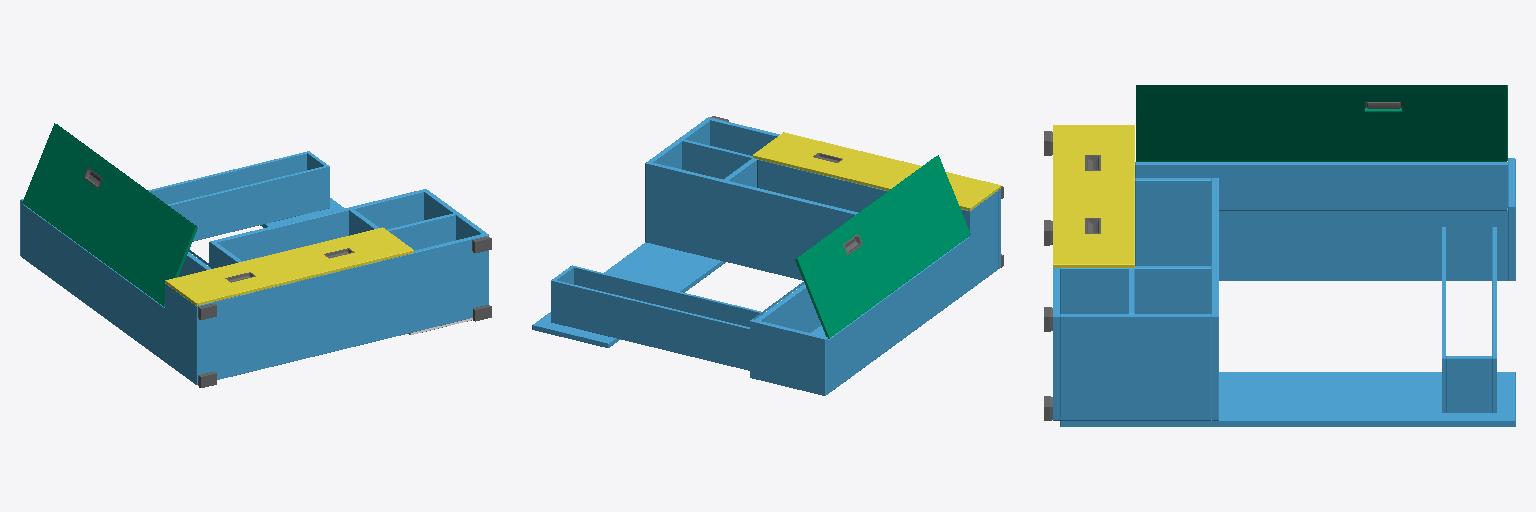
URDF robot description (577):
<robot name="577">


	<link name="0:virtual">
		<visual>
			<origin xyz="0.0 0.0 0.0" rpy="0 0 0"/>
			<geometry>
				<cylinder length="0" radius="0"/>
			</geometry>
		</visual>
	</link>


	<link name="1:static">
		<visual>
			<origin xyz="-0.0 -0.0 -0.0" rpy="0 0 0"/>
			<geometry>
				<mesh filename="../raw_data/577/part_meshes/1.dae" />
			</geometry>
		</visual>
	</link>


	<link name="2:cabinet door 1">
		<visual>
			<origin xyz="0.7549759787793395 -0.9019440038204193 -0.08256950185856853" rpy="0 0 0"/>
			<geometry>
				<mesh filename="../raw_data/577/part_meshes/2.dae" />
			</geometry>
		</visual>
	</link>


	<link name="3:drawer 1">
		<visual>
			<origin xyz="0.19366049766540527 -0.16733034793287516 -0.025034748017787933" rpy="0 0 0"/>
			<geometry>
				<mesh filename="../raw_data/577/part_meshes/3.dae" />
			</geometry>
		</visual>
	</link>


	<joint name="0:virtual::1:static" type="fixed">
		<parent link="0:virtual"/>
		<child link="1:static"/>
		<origin xyz="0.0 0.0 0.0" rpy="0 0 0"/>
	</joint>


	<joint name="0:virtual::2:cabinet door 1_rotation" type="revolute">
		<parent link="0:virtual"/>
		<child link="2:cabinet door 1"/>
		<origin xyz="-0.7549759787793395 0.9019440038204193 0.08256950185856853" rpy="0 0 0"/>
		<limit lower="-2.0263272615654166" upper="-0.23561944901923448" effort="10" velocity="3"/>
		<axis xyz="0.0 1.0 0.0"/>
	</joint>


	<joint name="0:virtual::3:drawer 1_translation" type="prismatic">
		<parent link="0:virtual"/>
		<child link="3:drawer 1"/>
		<origin xyz="-0.19366049766540527 0.16733034793287516 0.025034748017787933" rpy="0 0 0"/>
		<limit lower="-0.0404849998354912" upper="0.582515000164509" effort="10" velocity="3"/>
		<axis xyz="0.0 0.0 1.0"/>
	</joint>


</robot>

--- Render facts (derived) ---
Views: 3 orthographic renders of the robot side by side, from view 1: azimuth 30°, elevation 25°; view 2: azimuth 150°, elevation 25°; view 3: azimuth 270°, elevation 25°.
Robot: 577 — 4 links, 3 joints (1 revolute, 1 prismatic, 1 fixed); root link 0:virtual; default pose: joints at zero except 1 at the middle of their limits (0:virtual::2:cabinet door 1_rotation = -1.13).
Visible links, largest first — view 1: 1:static, 2:cabinet door 1, 3:drawer 1; view 2: 1:static, 2:cabinet door 1, 3:drawer 1; view 3: 1:static, 2:cabinet door 1, 3:drawer 1.
Link boxes in pixels (left/top/right/bottom): 1:static: left=20, top=151, right=491, bottom=387; 2:cabinet door 1: left=22, top=123, right=197, bottom=306; 3:drawer 1: left=165, top=227, right=413, bottom=305; 1:static: left=532, top=116, right=1003, bottom=395; 2:cabinet door 1: left=795, top=155, right=970, bottom=338; 3:drawer 1: left=753, top=132, right=1000, bottom=210; 1:static: left=1044, top=131, right=1515, bottom=426; 2:cabinet door 1: left=1136, top=85, right=1507, bottom=161; 3:drawer 1: left=1053, top=125, right=1134, bottom=267.
Size in the robot's own frame: 1.52 by 1.6 by 0.6545 metres.
Meshes: 3 distinct files referenced, 3 mesh visuals loaded (3 Collada DAE).